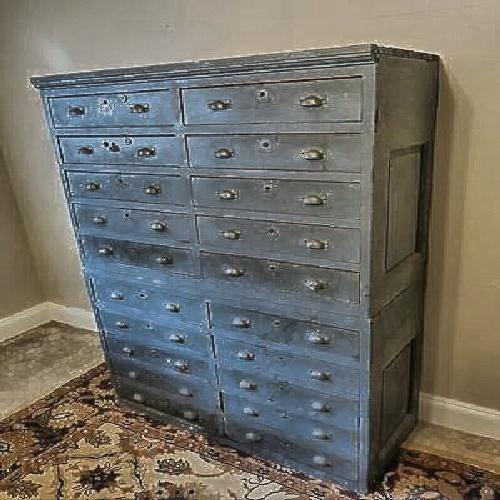cabinet: (57, 50, 442, 447)
